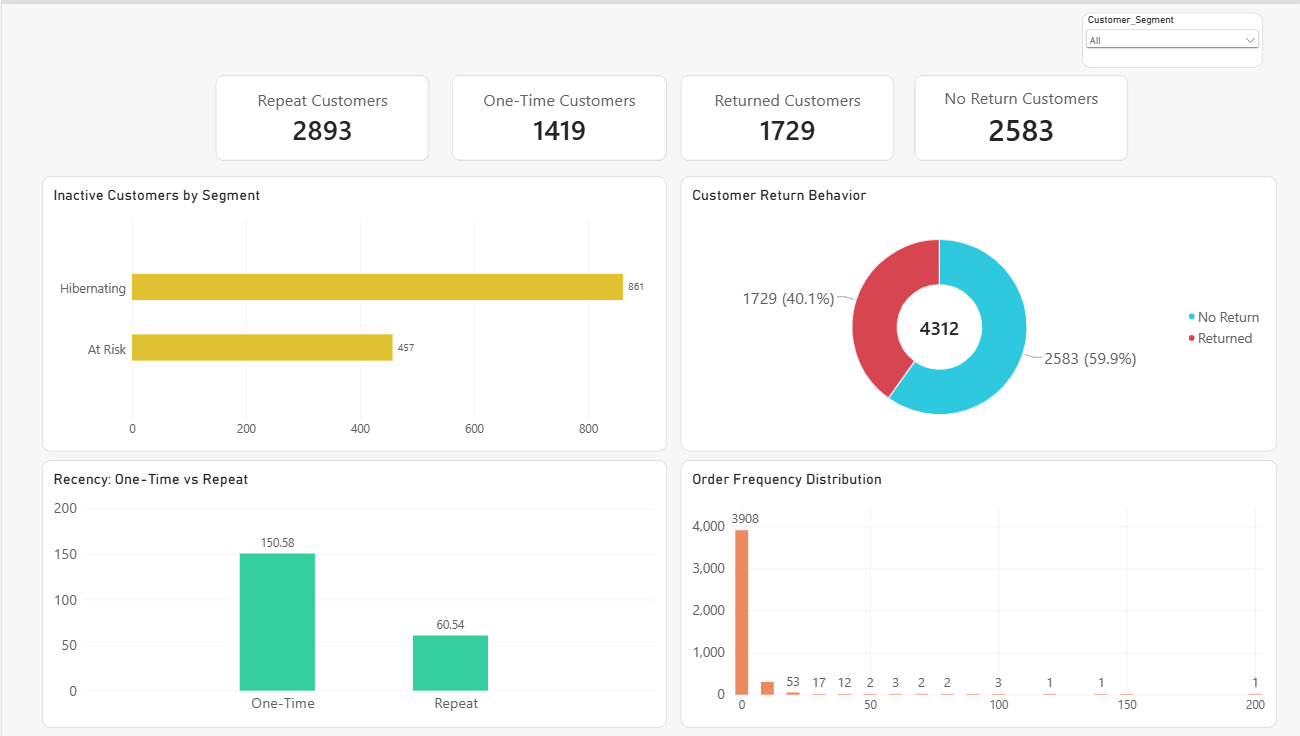

The dashboard page shown, as its layout file describes it:
{"tool":"powerbi","page":{"name":"Customer Behavior & Retention","canvas":[1920,1250],"ordinal":1},"visuals":[{"type":"cardVisual","fields":{"Data":["customer_analytics.Repeat Customers"]},"box":[314.9,112.8,314.9,126.3],"z":0},{"type":"cardVisual","fields":{"Data":["customer_analytics.One-Time Customers"]},"box":[664.8,112.8,316.8,126.3],"z":1},{"type":"cardVisual","fields":{"Data":["customer_analytics.Returned Customers"]},"box":[1001,112.8,314.9,126.3],"z":2},{"type":"cardVisual","fields":{"Data":["customer_analytics.No Return Customers"]},"box":[1347,112.8,314.9,126.3],"z":3},{"type":"clusteredBarChart","title":"Inactive Customers by Segment","fields":{"Category":["customer_analytics.Customer_Segment"],"Y":["customer_analytics.Inactive Customer"]},"box":[58.3,266.3,923.3,464.5],"z":4},{"type":"donutChart","title":"Customer Return Behavior","fields":{"Category":["customer_analytics.Return_Status"],"Y":["customer_analytics.Total Customers"]},"box":[1001,266.3,880.5,464.5],"z":5},{"type":"clusteredColumnChart","title":"Recency: One-Time vs Repeat","fields":{"Category":["customer_analytics.Customer_Type"],"Y":["Avg(customer_analytics.Days_Since_Last_Purchase)"]},"box":[58.3,744.4,923.3,482],"z":6},{"type":"clusteredColumnChart","title":"Order Frequency Distribution","fields":{"Category":["customer_analytics.Total_Orders (bins)"],"Y":["CountNonNull(customer_analytics.Customer ID)"]},"box":[1001,744.4,880.5,482],"z":7}]}

Visuals, with their boxes on the page's 1920x1250 design canvas (x1, y1, x2, y2). These are canvas units, not pixel positions in the 1300x736 screenshot, which may show the page scaled, cropped or inside an application window:
cardVisual - customer_analytics.Repeat Customers: pyautogui.locateOnScreen(315, 113, 630, 239)
cardVisual - customer_analytics.One-Time Customers: pyautogui.locateOnScreen(665, 113, 982, 239)
cardVisual - customer_analytics.Returned Customers: pyautogui.locateOnScreen(1001, 113, 1316, 239)
cardVisual - customer_analytics.No Return Customers: pyautogui.locateOnScreen(1347, 113, 1662, 239)
"Inactive Customers by Segment" clusteredBarChart: pyautogui.locateOnScreen(58, 266, 982, 731)
"Customer Return Behavior" donutChart: pyautogui.locateOnScreen(1001, 266, 1882, 731)
"Recency: One-Time vs Repeat" clusteredColumnChart: pyautogui.locateOnScreen(58, 744, 982, 1226)
"Order Frequency Distribution" clusteredColumnChart: pyautogui.locateOnScreen(1001, 744, 1882, 1226)
